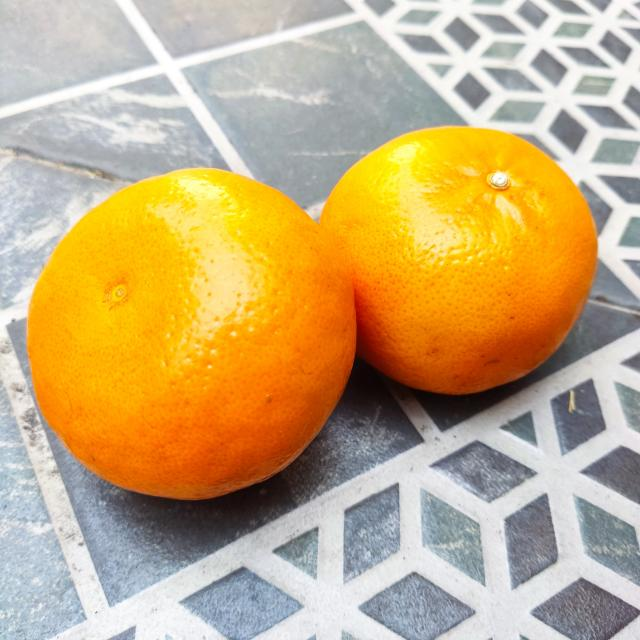orange: (19, 168, 357, 504), (316, 124, 594, 394)
